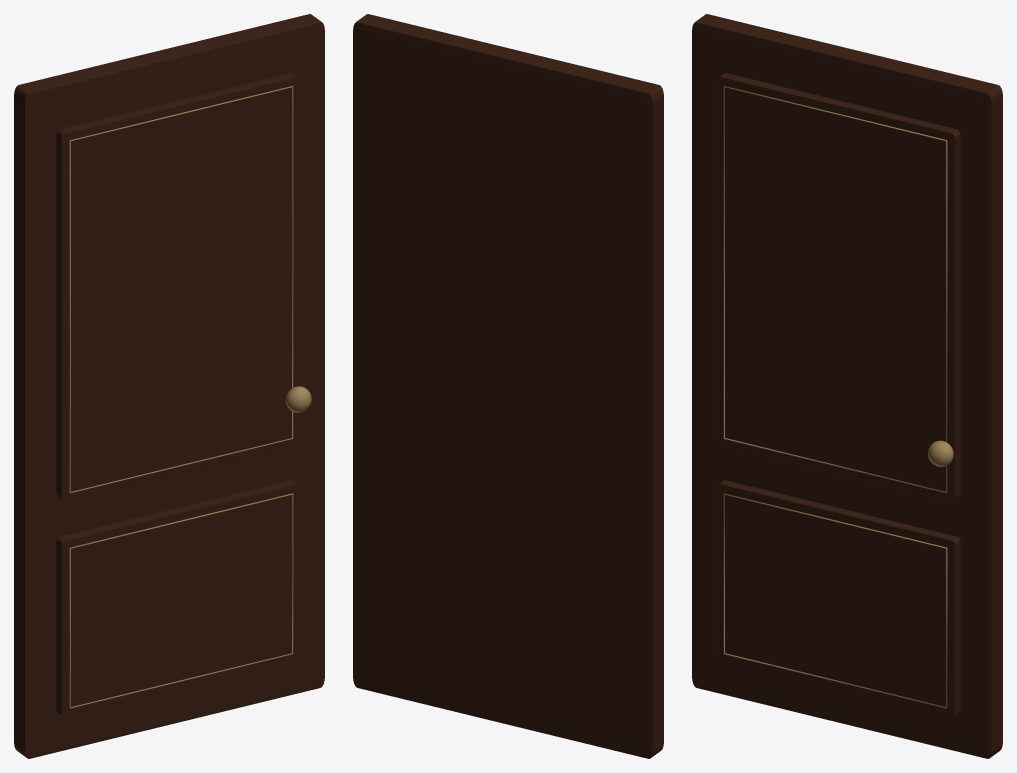
File: Door_Leaf.fbx
3 renders of one model, left to right at view 1: azimuth 30°, elevation 25°; view 2: azimuth 150°, elevation 25°; view 3: azimuth 330°, elevation 25°, orthographic.
Visible parts, largest first — view 1: Raised wooden panel.028, Door.001, Raised wooden panel.027, Panel moulding.122, Panel moulding.121, Door knob.001; view 2: Door.001; view 3: Raised wooden panel.028, Door.001, Raised wooden panel.027, Panel moulding.122, Panel moulding.121, Door knob.001.
Boxes of the visible parts, <box> form: Raised wooden panel.028: <box>56,73,299,501</box>; Door.001: <box>14,14,324,758</box>; Raised wooden panel.027: <box>56,480,299,716</box>; Panel moulding.122: <box>69,86,293,493</box>; Panel moulding.121: <box>69,493,293,708</box>; Door knob.001: <box>285,386,311,412</box>; Door.001: <box>353,14,663,758</box>; Raised wooden panel.028: <box>717,73,960,501</box>; Door.001: <box>692,14,1002,758</box>; Raised wooden panel.027: <box>717,480,960,716</box>; Panel moulding.122: <box>723,86,947,493</box>; Panel moulding.121: <box>723,493,947,708</box>; Door knob.001: <box>928,440,953,466</box>.
Bounding box in the file's own units: 1.16 × 2.46 × 0.1975.
